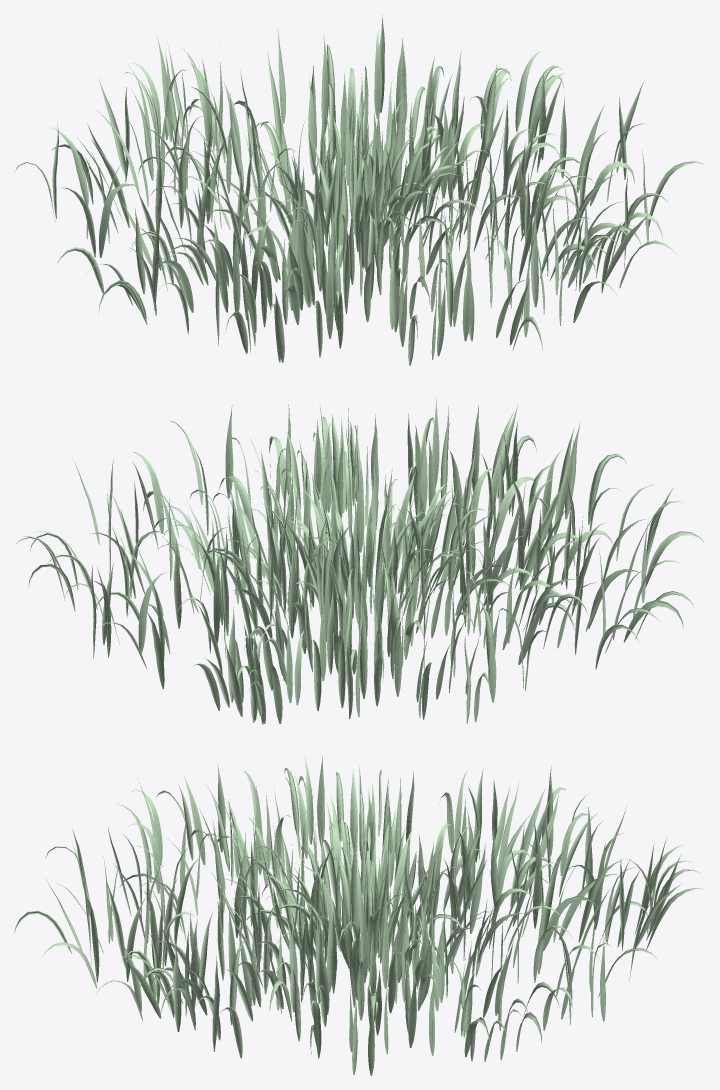
Rendered from grass-02-LOD0.fbx.
3 views of the same model, one above another, from view 1: azimuth 30°, elevation 25°; view 2: azimuth 150°, elevation 25°; view 3: azimuth 270°, elevation 25° (orthographic). The views are drawn at different scales.
Visible parts, largest first — view 1: Grass.02.LOD0; view 2: Grass.02.LOD0; view 3: Grass.02.LOD0.
Boxes of the visible parts, x1,y1,x2,y2 form: Grass.02.LOD0: (15, 14, 703, 365); Grass.02.LOD0: (15, 397, 705, 724); Grass.02.LOD0: (14, 755, 704, 1075).
Size of the model in its own units: 3583 by 3395 by 567.
